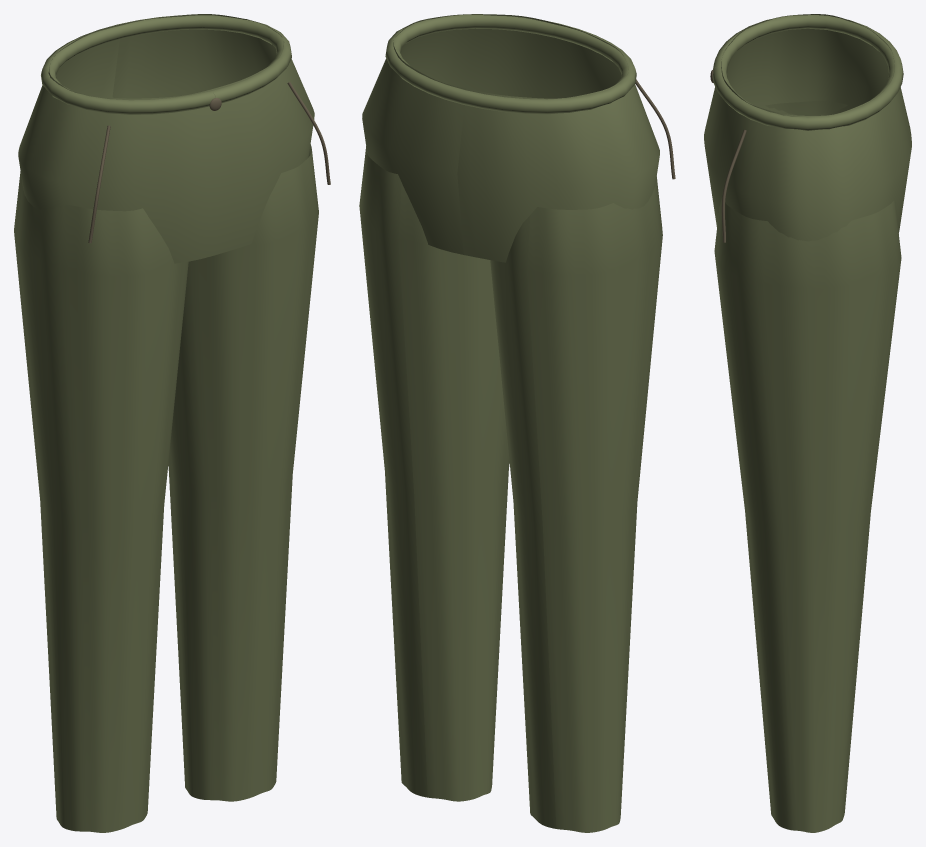
File: pantalon-rivage-femme.glb
The picture shows the model from 3 angles, left to right: view 1: azimuth 30°, elevation 25°; view 2: azimuth 150°, elevation 25°; view 3: azimuth 270°, elevation 25°; orthographic projection. The views are drawn at different scales.
Visible parts, largest first — view 1: edit-15; view 2: edit-15; view 3: edit-15.
Part boxes in pixels (x1,y1,x2,y2): edit-15: (14, 14, 330, 832); edit-15: (359, 14, 675, 832); edit-15: (704, 14, 911, 832).
Bounding box in the file's own units: 0.3689 × 0.9517 × 0.2493.
